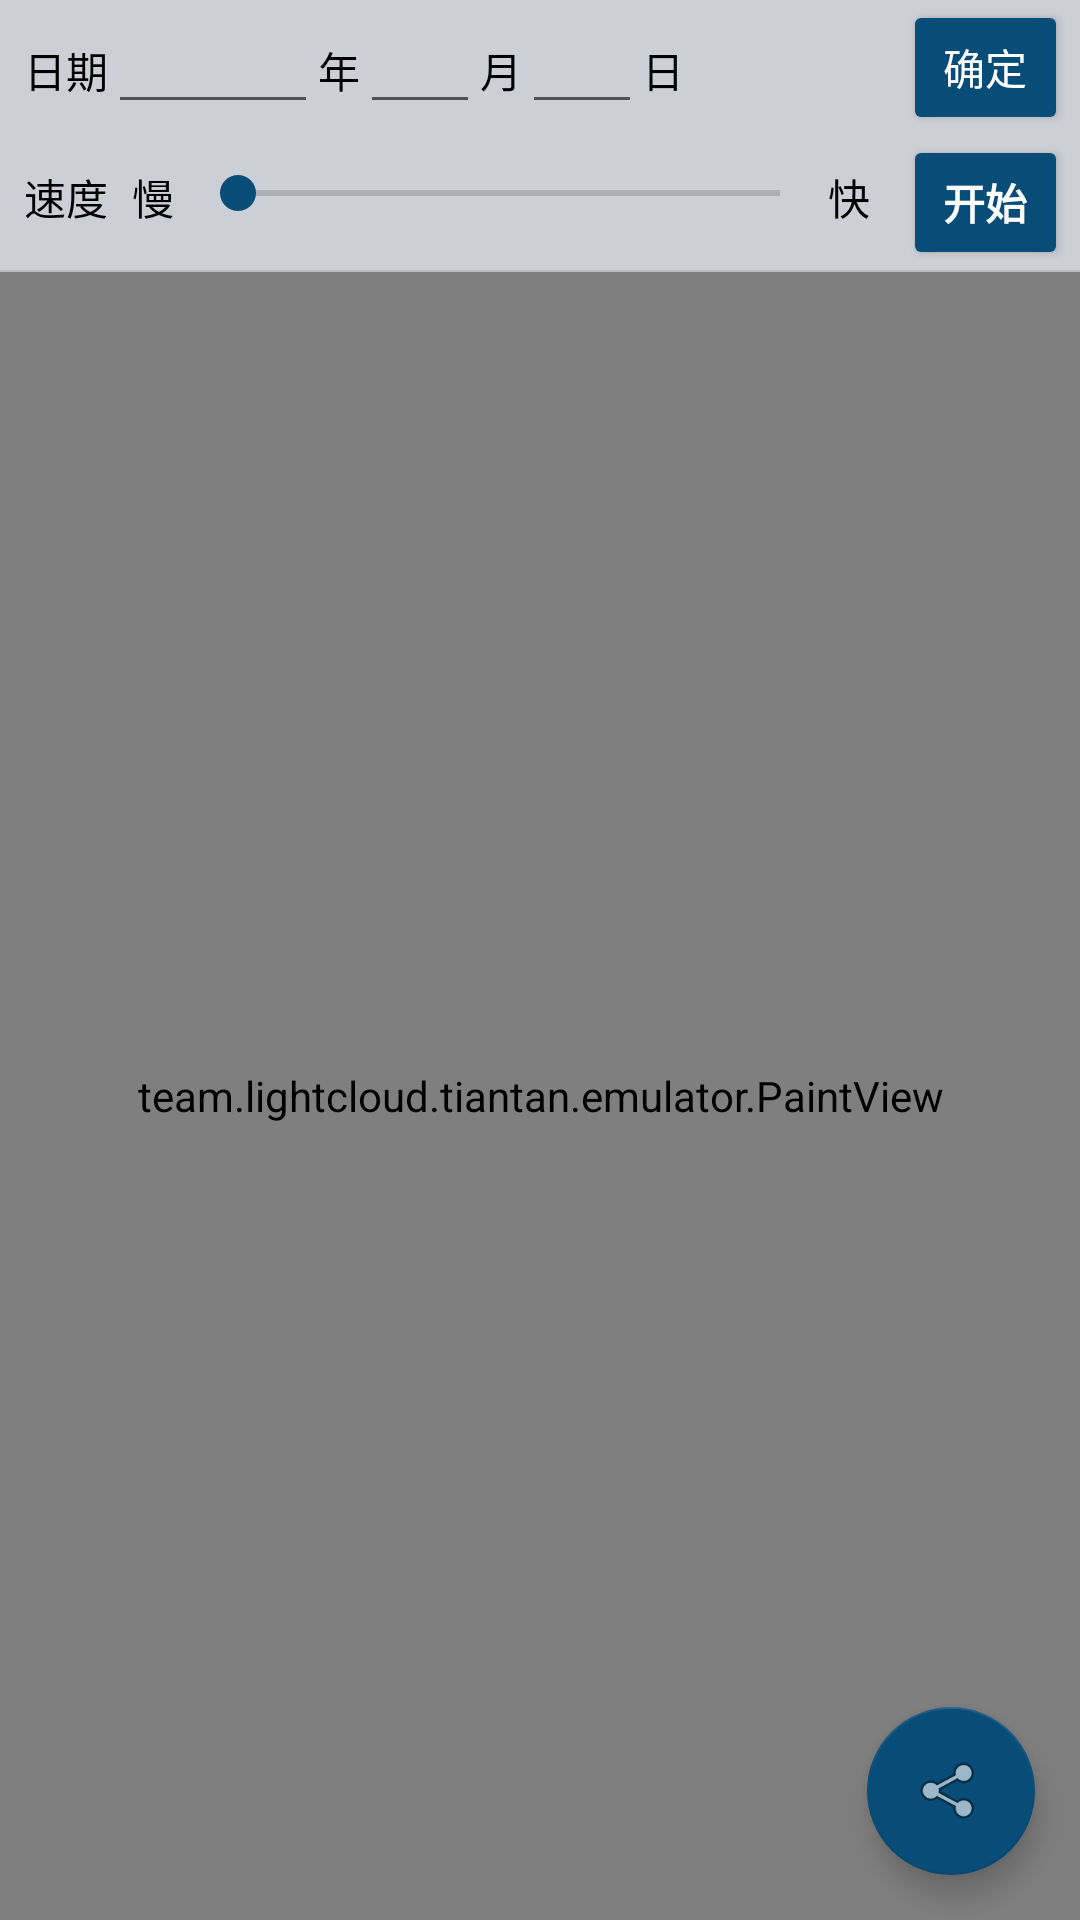

Point at icon controls on the screen. Image size 1080px×1920px, points as point (x, y).
share: point (951, 1791)
